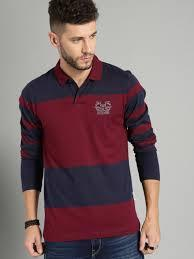Tshirt: (14, 53, 165, 243)
